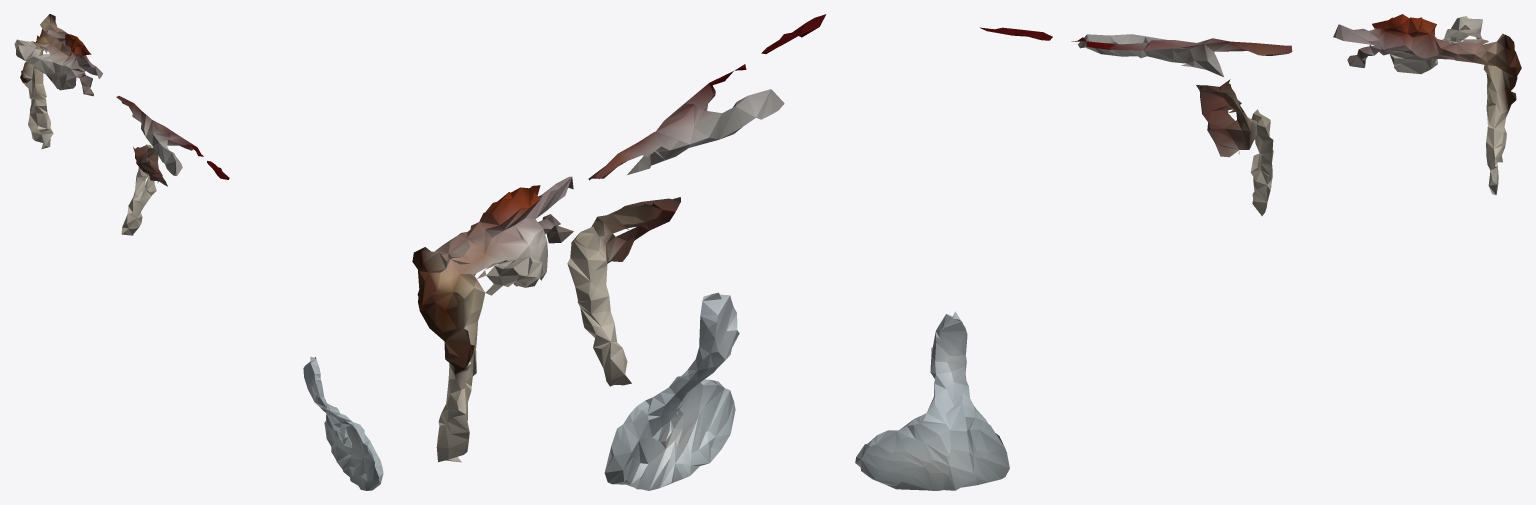
Rendered from prep_run__upper_dishes_right.scan.glb.
3 views of the same model, side by side, from view 1: azimuth 30°, elevation 25°; view 2: azimuth 150°, elevation 25°; view 3: azimuth 270°, elevation 25° (orthographic). The views are drawn at different scales.
Parts seen in each view (by area): view 1: geometry_0; view 2: geometry_0; view 3: geometry_0.
Boxes of the visible parts, x1,y1,x2,y2 form: geometry_0: (14,14,383,490); geometry_0: (412,14,826,490); geometry_0: (855,14,1521,490).
Bounding box in the file's own units: 0.2118 × 0.4759 × 0.686.
